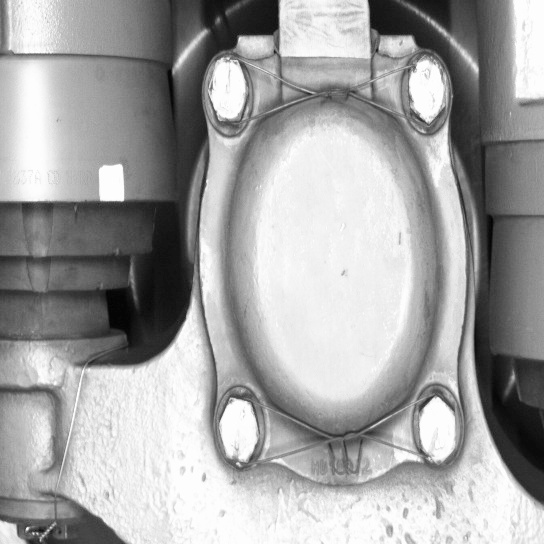IronWire: (196, 47, 460, 138), (208, 379, 466, 471)
Screw: (395, 45, 459, 137), (405, 379, 465, 470), (197, 48, 258, 135), (207, 387, 265, 474)
